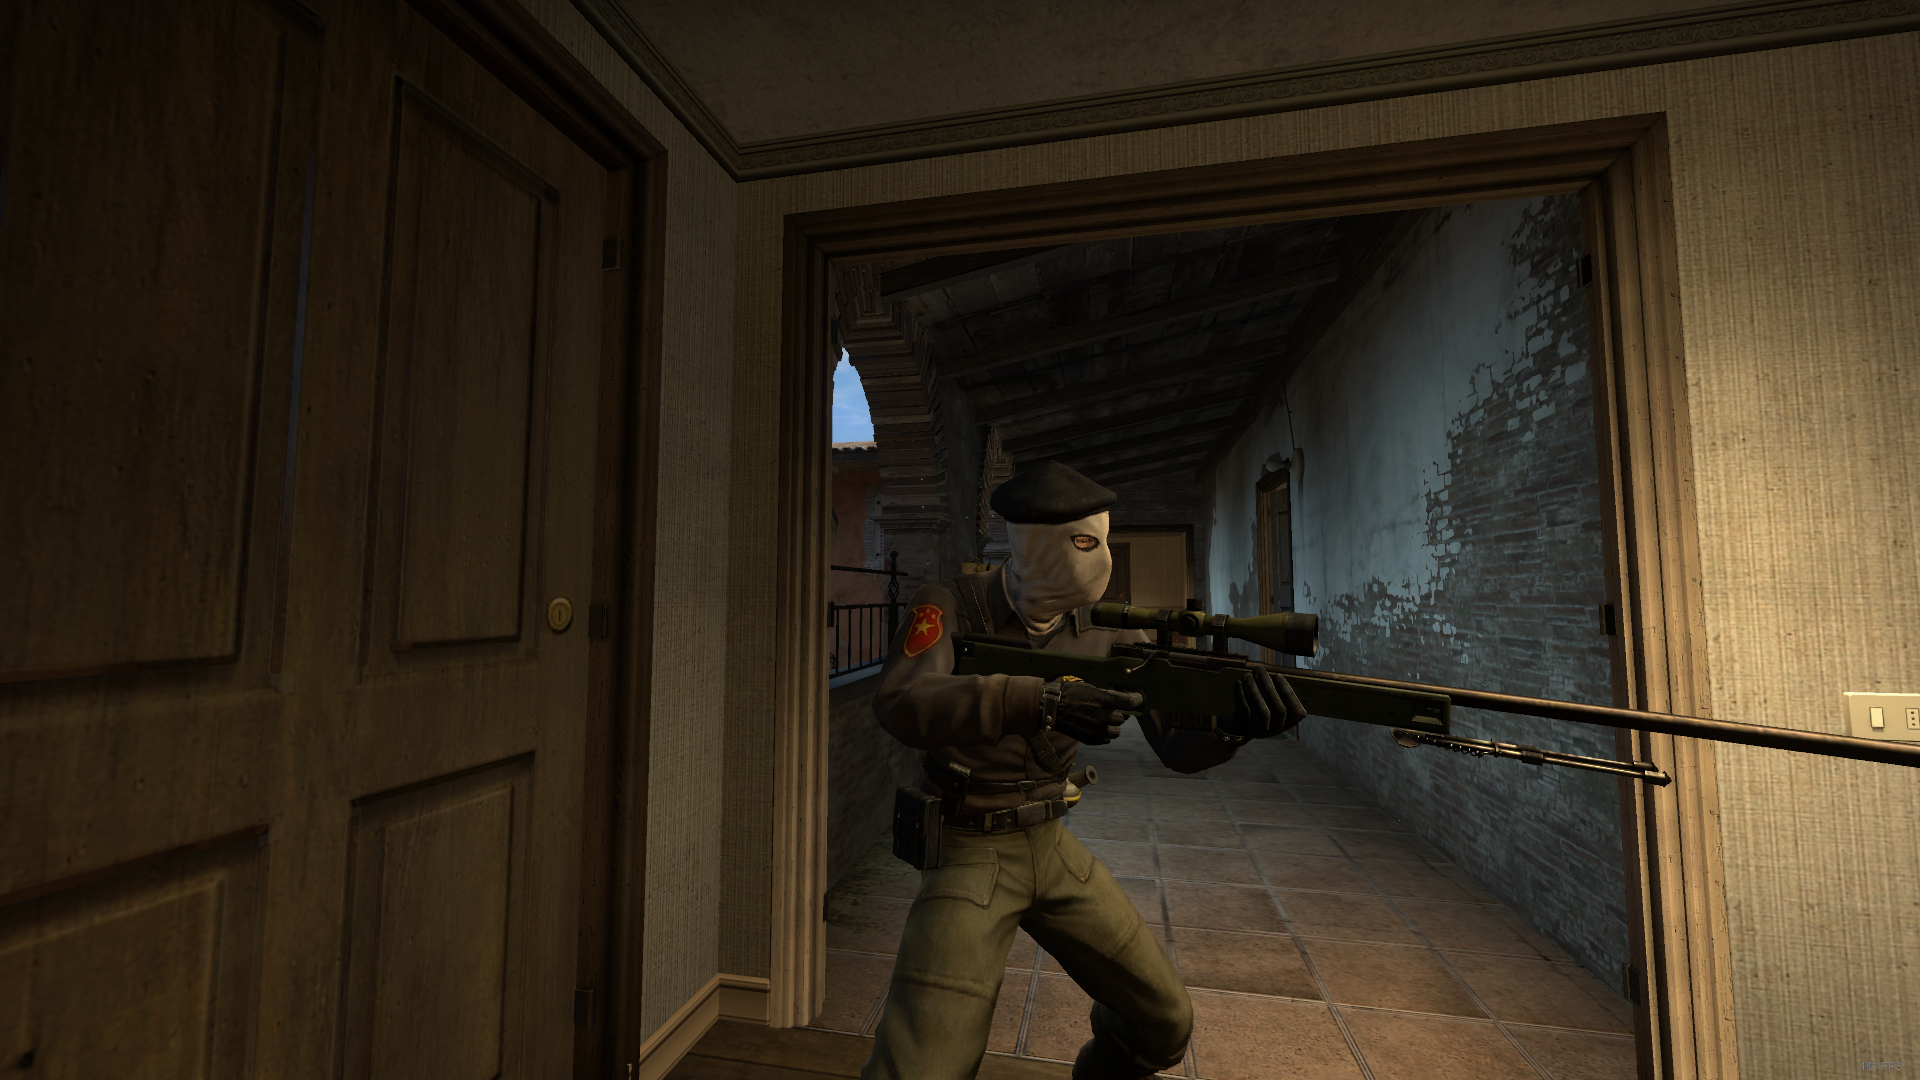t: (856, 462, 1305, 1080)
